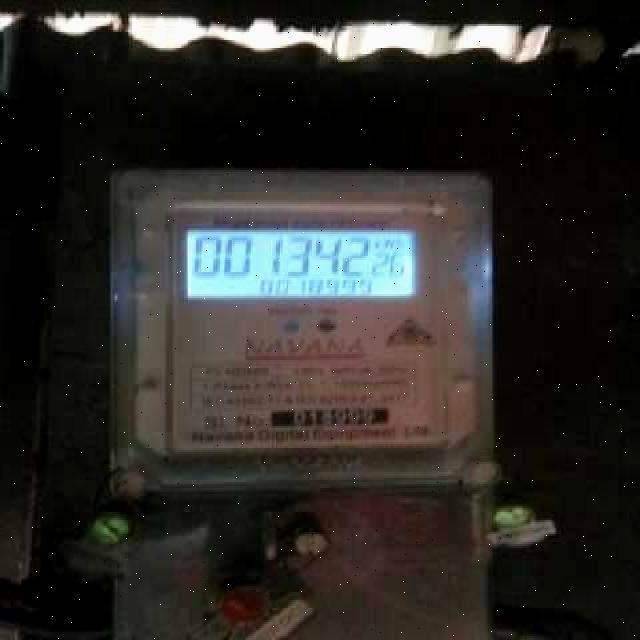LCD: (180, 221, 426, 308)
